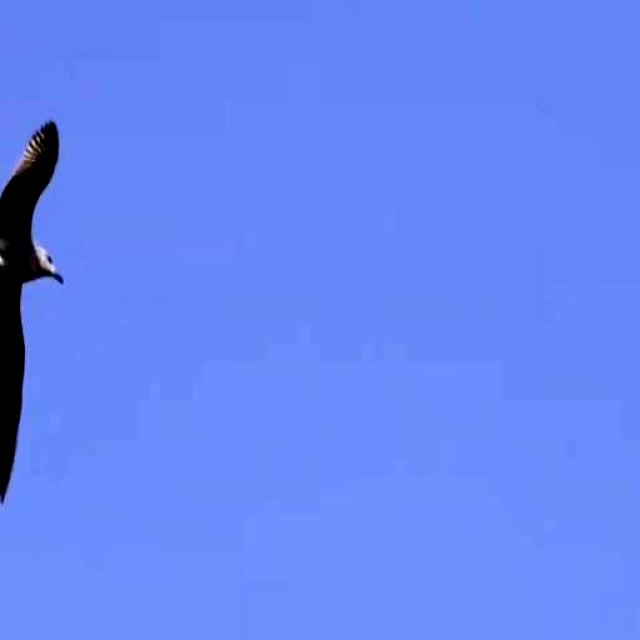airplane: (0, 114, 68, 514)
